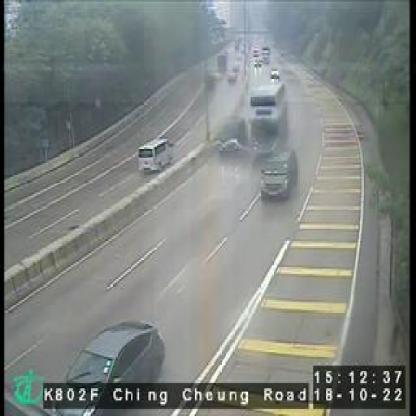Car: (48, 321, 165, 416), (260, 147, 299, 202), (137, 136, 173, 173), (270, 68, 281, 83)
Truck: (247, 82, 290, 150)
